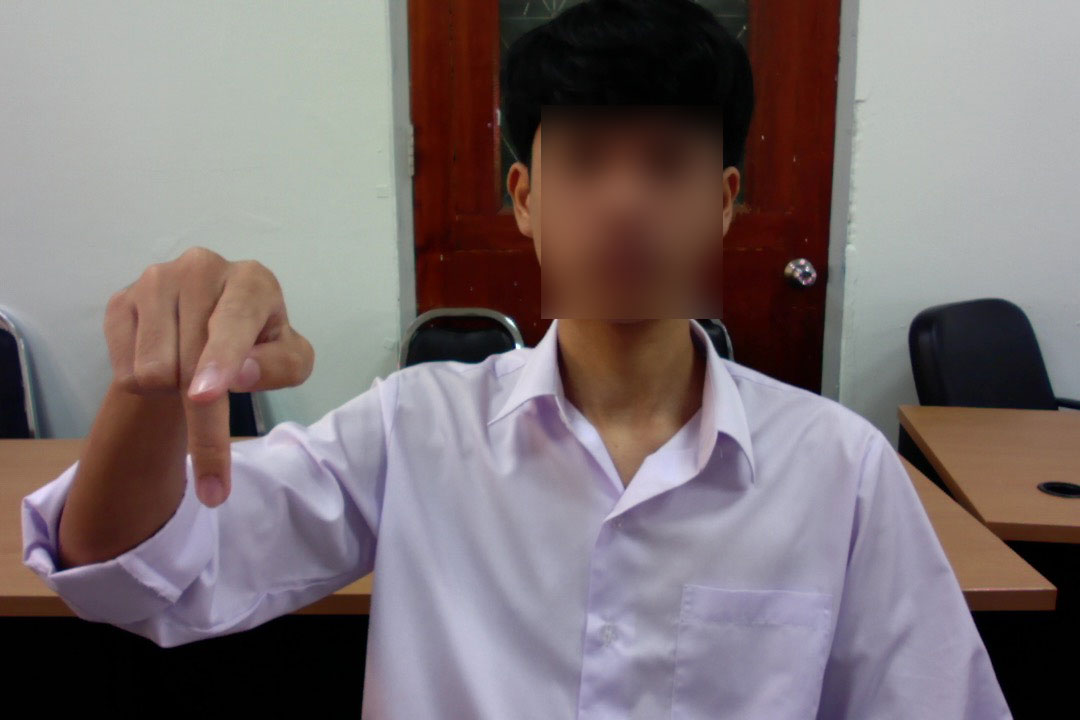por: (89, 242, 318, 520)
